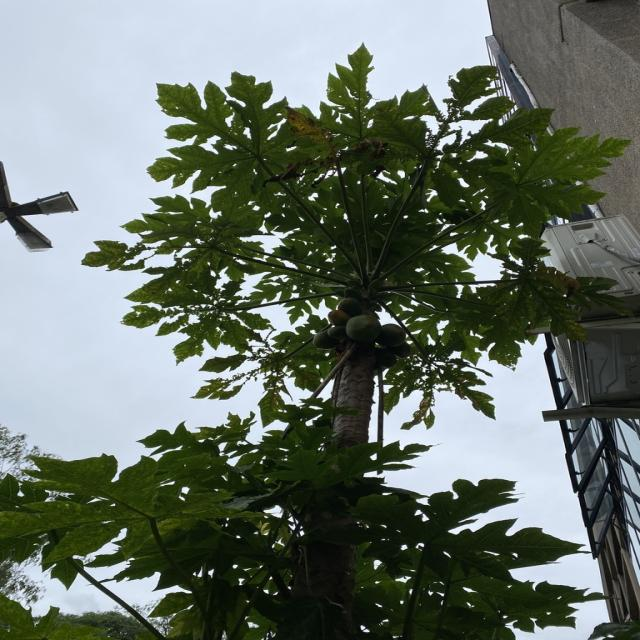Papaya-Tree: (106, 46, 614, 486)
